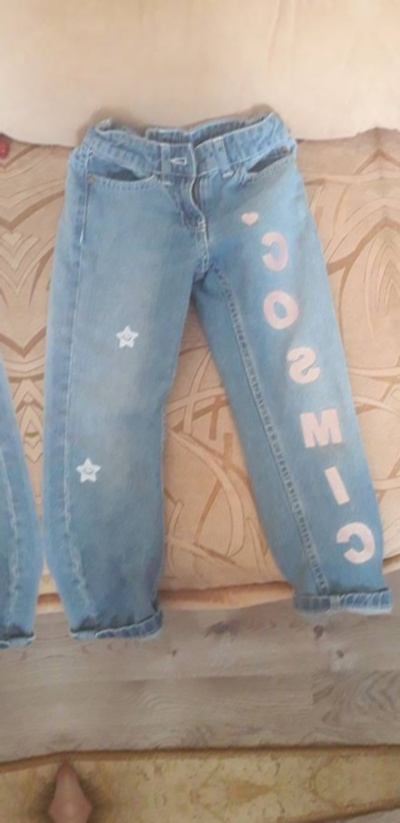Pants: (15, 87, 391, 674), (0, 122, 40, 710)
